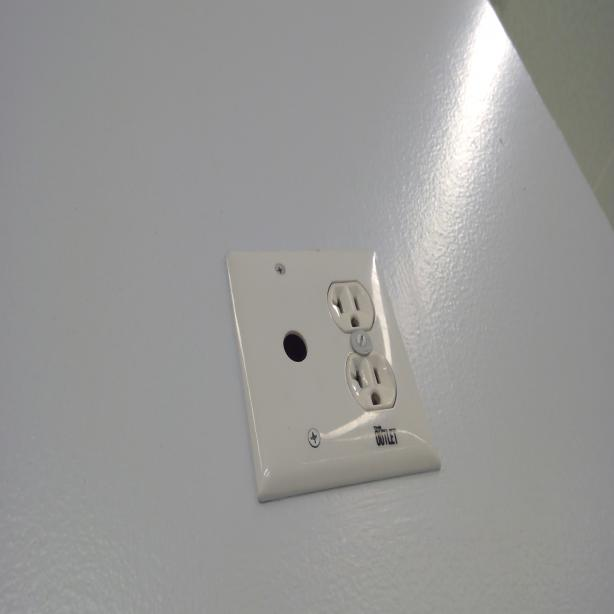typeb: (331, 276, 369, 336), (350, 353, 388, 412)
